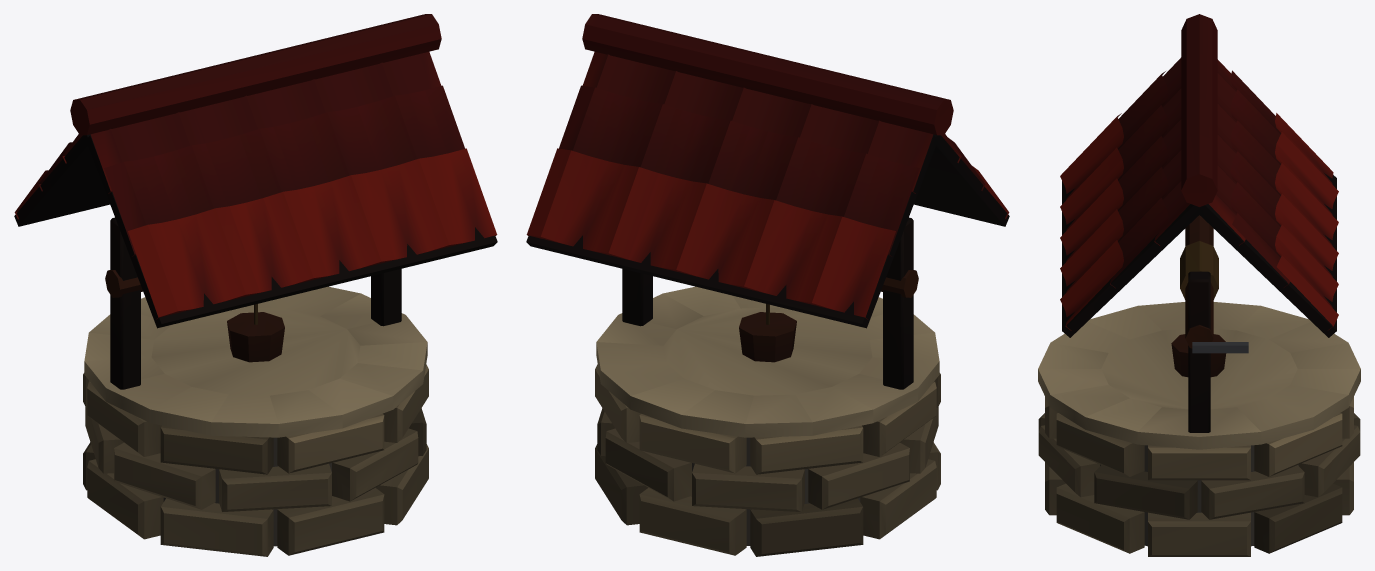
The model's file is Poco4.fbx.
The picture shows the model from 3 angles, left to right: view 1: azimuth 30°, elevation 25°; view 2: azimuth 150°, elevation 25°; view 3: azimuth 270°, elevation 25°; orthographic projection. The views are drawn at different scales.
Visible parts, largest first — view 1: Poco4; view 2: Poco4; view 3: Poco4.
Boxes of the visible parts, x1,y1,x2,y2 form: Poco4: (14,14,497,556); Poco4: (526,14,1009,556); Poco4: (1038,14,1360,556).
Bounding box in the file's own units: 2.7 × 3.16 × 2.3.
